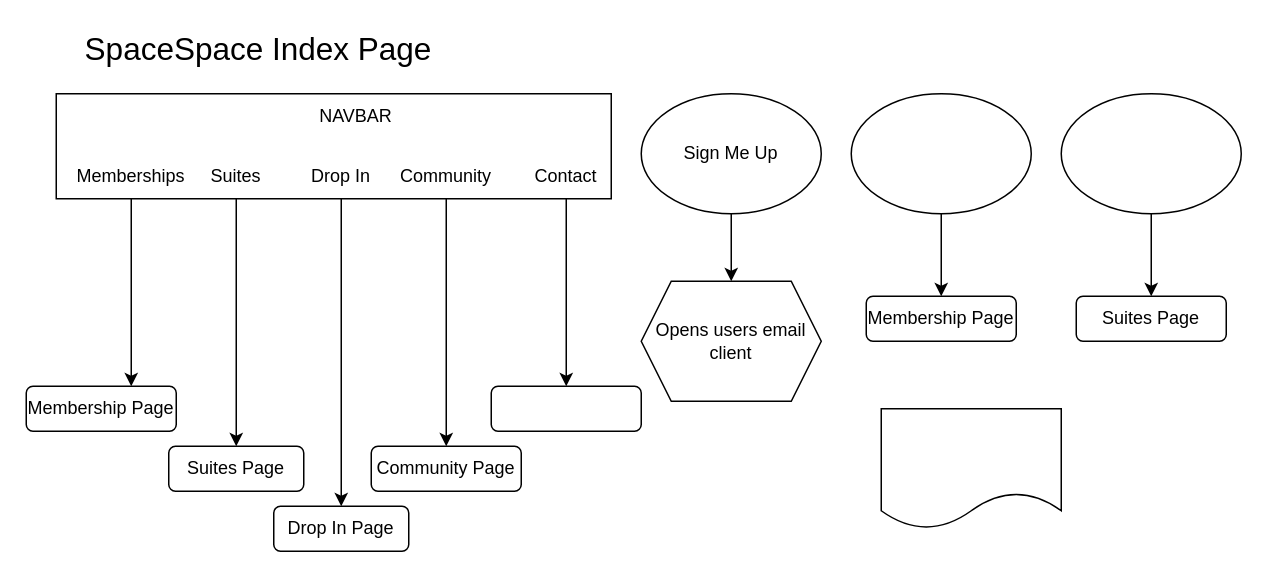
Some shapes in this 1268 by 578 pixel diagram are drawn without their labels. Each missing label, with the box of its shape:
Availability: (1060, 92, 1241, 214)
Contact form: (880, 407, 1061, 529)
Contact Page: (490, 385, 641, 431)
Details: (850, 92, 1031, 214)
